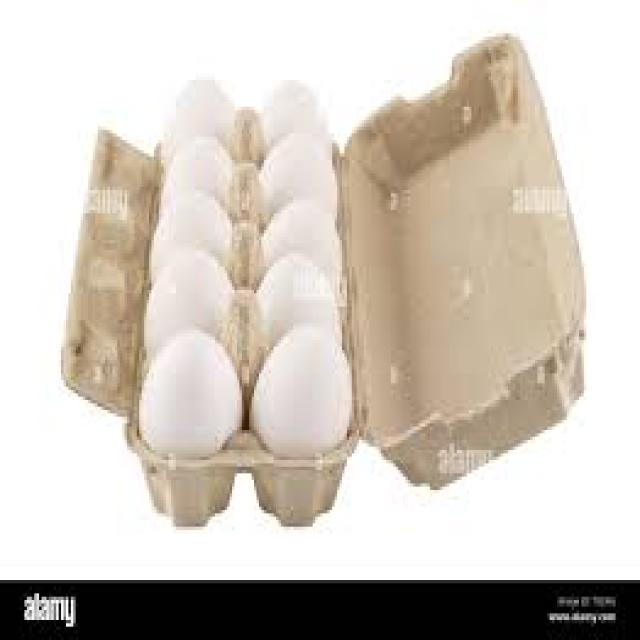White Egg: (139, 324, 248, 456), (260, 328, 353, 459), (137, 255, 240, 347), (250, 255, 347, 348), (262, 196, 344, 287), (158, 124, 246, 202), (146, 197, 237, 268), (256, 127, 340, 199)
